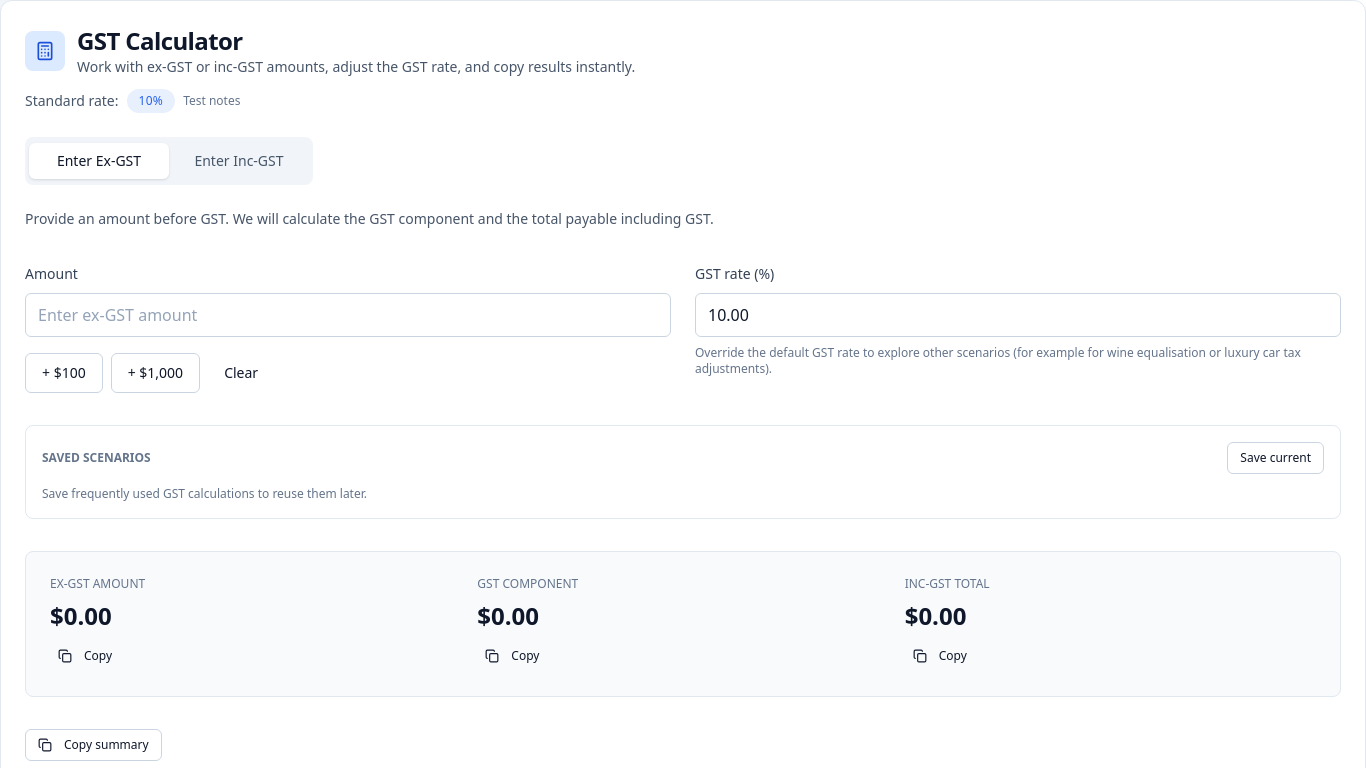
Scenario: GstCalculator › calculates GST correctly for inclusive amount
The width and height of the screenshot is (1366, 768).
Click the tab "Enter Inc-GST" at (239, 161), box [169,143,309,179]
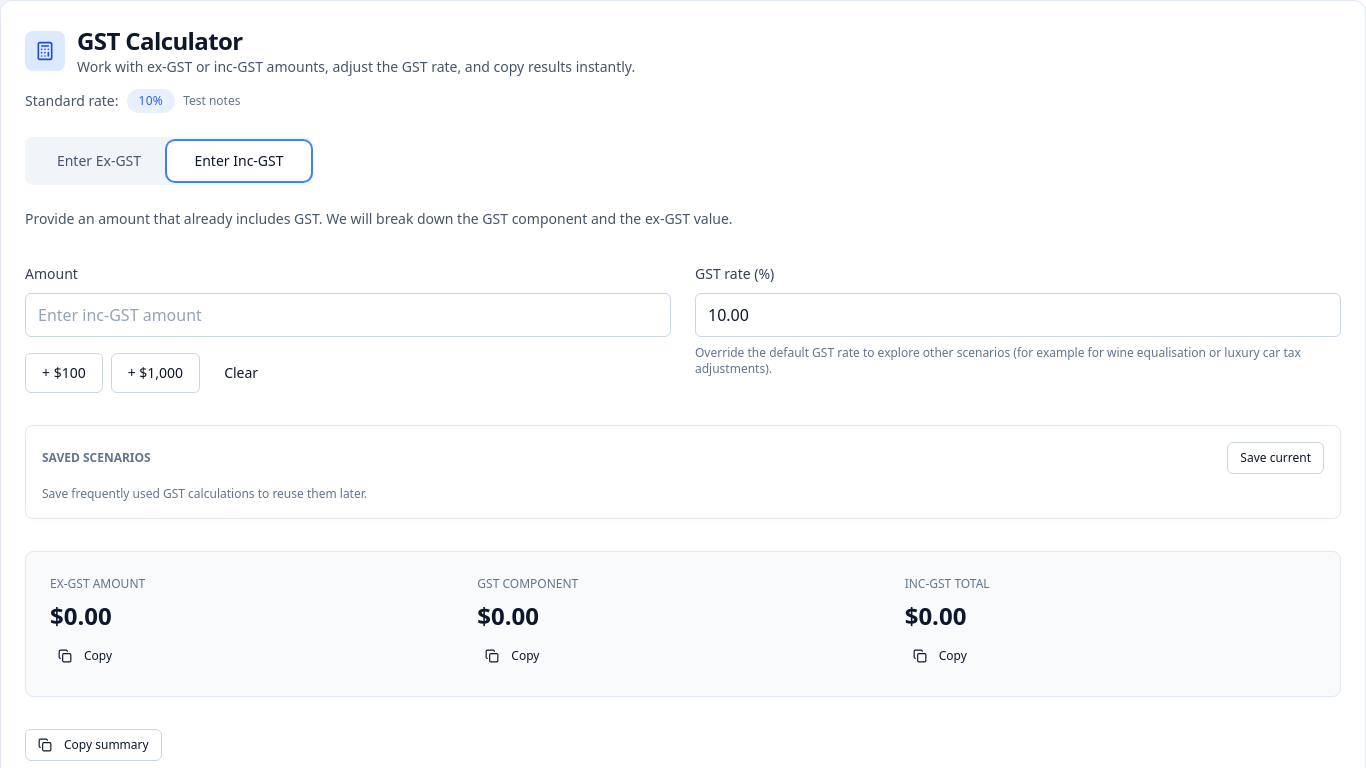
Type "110" into the field labelled "Amount" at (348, 315), box [25,293,671,337]
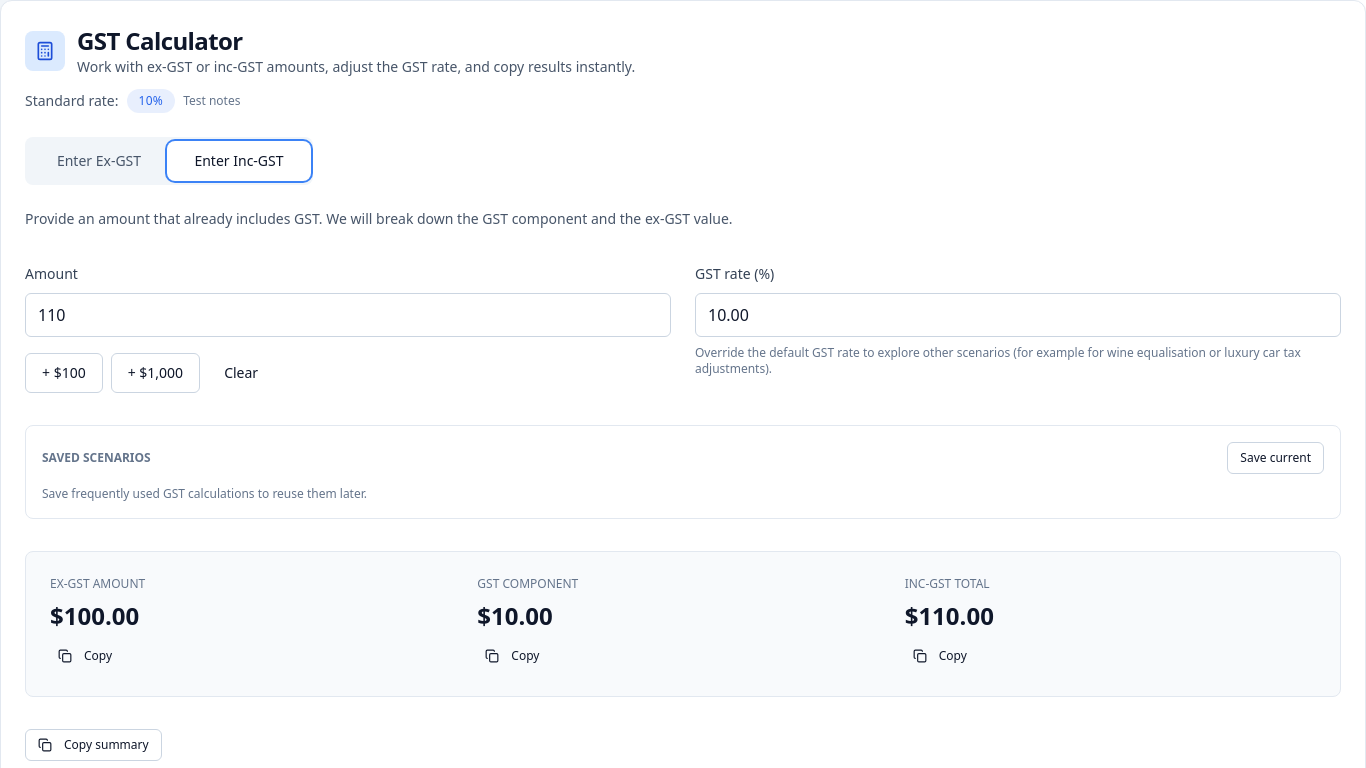
Now the text "$100.00" is shown, box [50,599,139,632]
Now the text "$10.00" is shown, box [477,599,553,632]
Now the text "$110.00" is shown, box [905,599,994,632]
